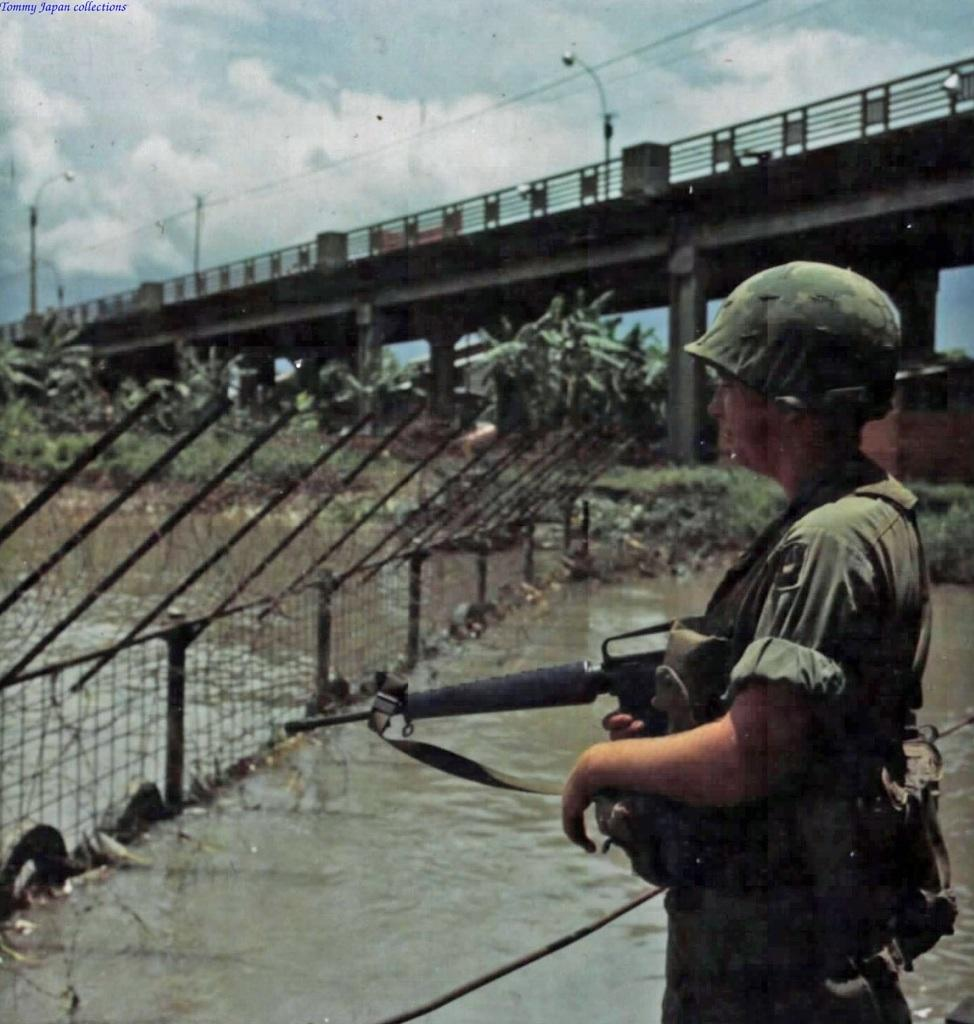Shotgun: (289, 611, 694, 744)
